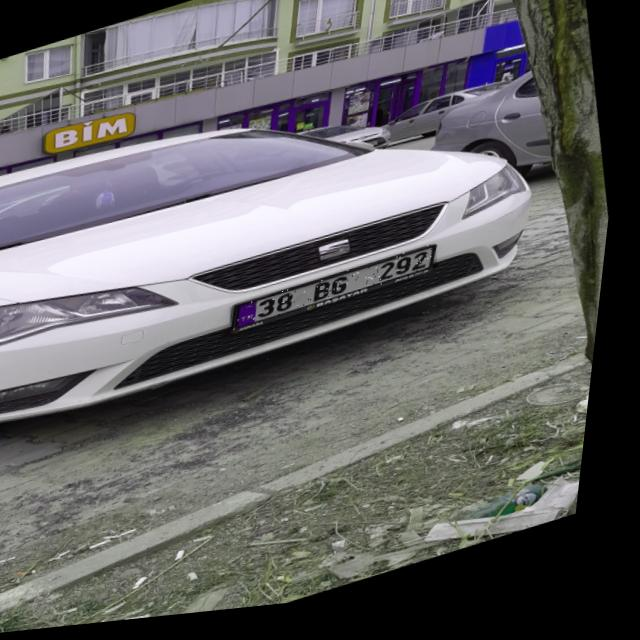license_plate: (234, 252, 447, 336)
